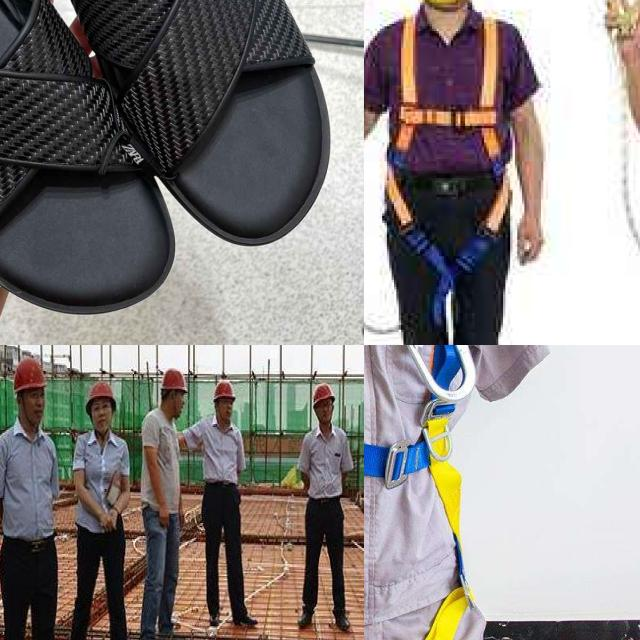Harness: (377, 10, 515, 280), (364, 345, 469, 640)
Sandals: (0, 0, 353, 322)
face_nomask: (23, 388, 48, 419), (88, 400, 115, 428), (173, 390, 191, 418), (316, 400, 336, 422), (218, 396, 236, 419)
head_helmet: (8, 356, 54, 396), (158, 367, 188, 392), (88, 380, 118, 404), (310, 381, 338, 406), (212, 378, 240, 400)
person: (54, 378, 134, 640), (0, 352, 69, 640), (129, 370, 198, 640), (285, 378, 357, 636), (190, 377, 258, 633)
shoes: (227, 606, 262, 628), (292, 608, 318, 634), (328, 610, 354, 634), (205, 608, 225, 628)
